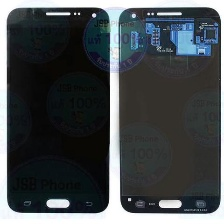phone: (117, 4, 224, 217), (4, 3, 112, 214)
